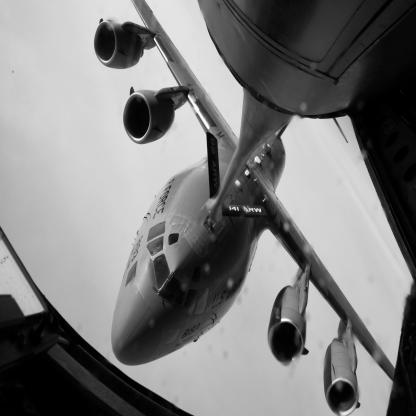C17: (95, 1, 396, 416)
